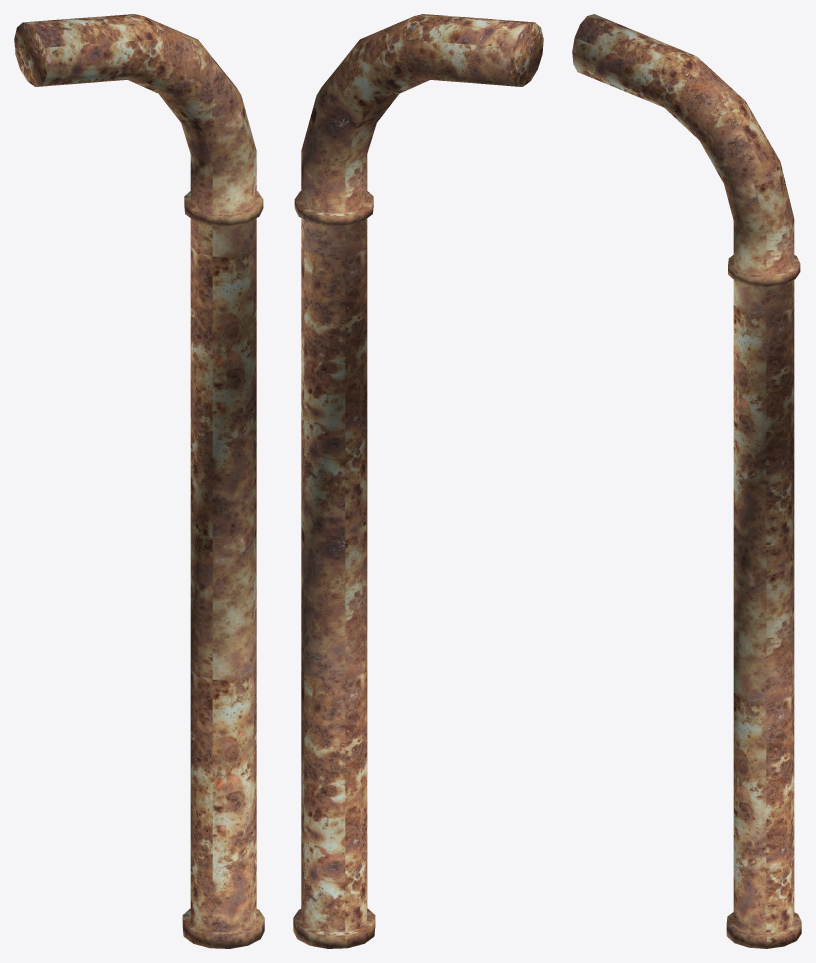
The model's file is NoFreePlaceSign.FBX.
3 renders of one model, left to right at view 1: azimuth 30°, elevation 25°; view 2: azimuth 150°, elevation 25°; view 3: azimuth 330°, elevation 25°, orthographic. The views are drawn at different scales.
Visible parts, largest first — view 1: pipe; view 2: pipe; view 3: pipe.
Part boxes in pixels (box(x1,y1,x2,y2)): pipe: box(14, 14, 264, 948); pipe: box(293, 14, 543, 948); pipe: box(572, 14, 801, 948).
Size of the model in its own units: 1.29 by 5.13 by 0.4006.
1 material, 1 textured.
